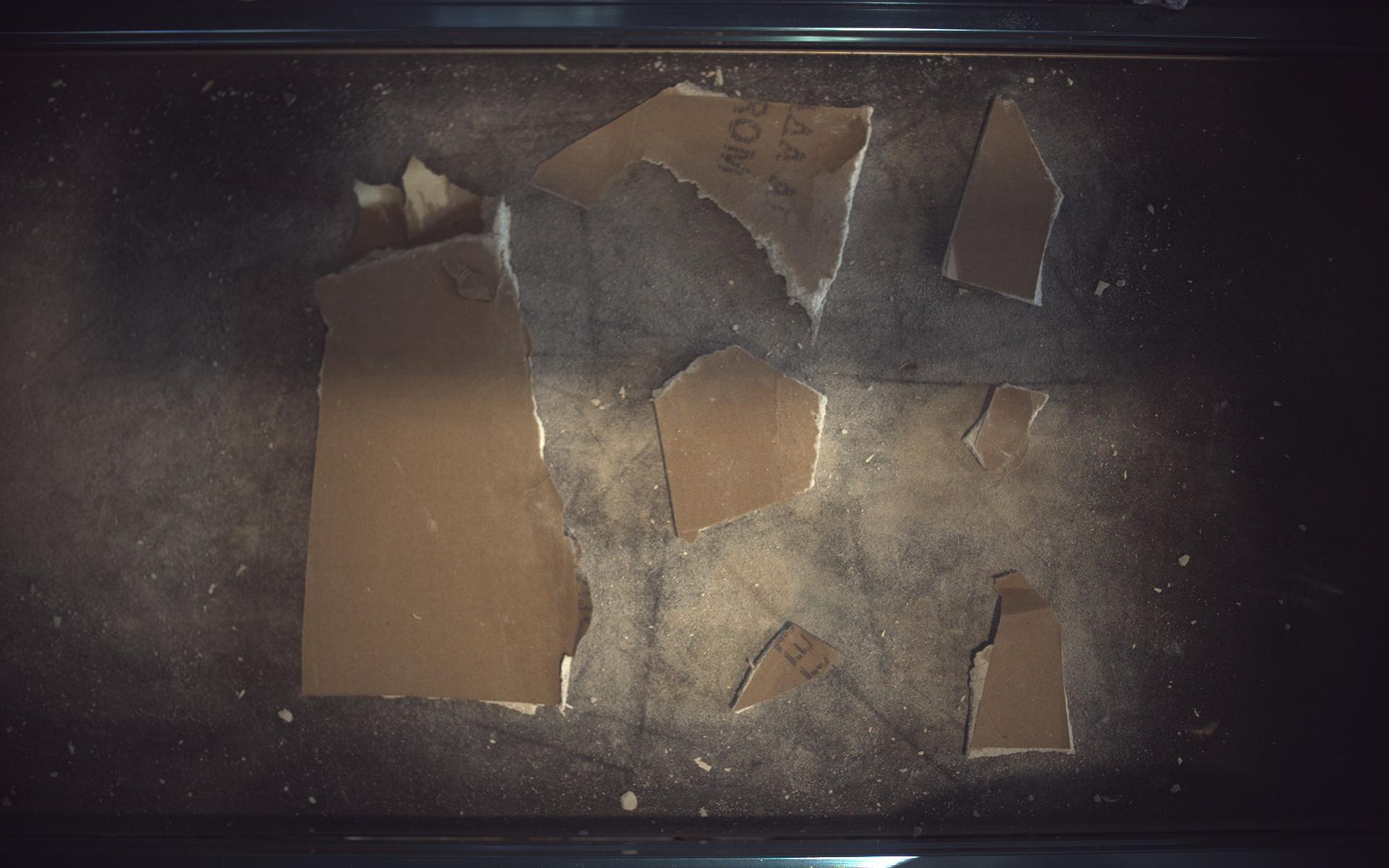gypsum_board: (302, 156, 590, 712), (532, 82, 872, 336), (654, 345, 828, 542), (944, 95, 1066, 305), (969, 572, 1076, 760), (733, 622, 844, 715), (967, 383, 1050, 473)
